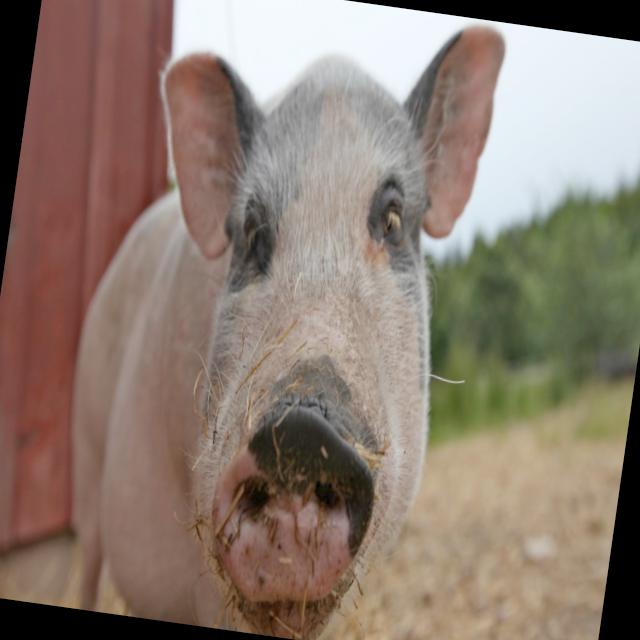pig: (69, 25, 505, 640)
